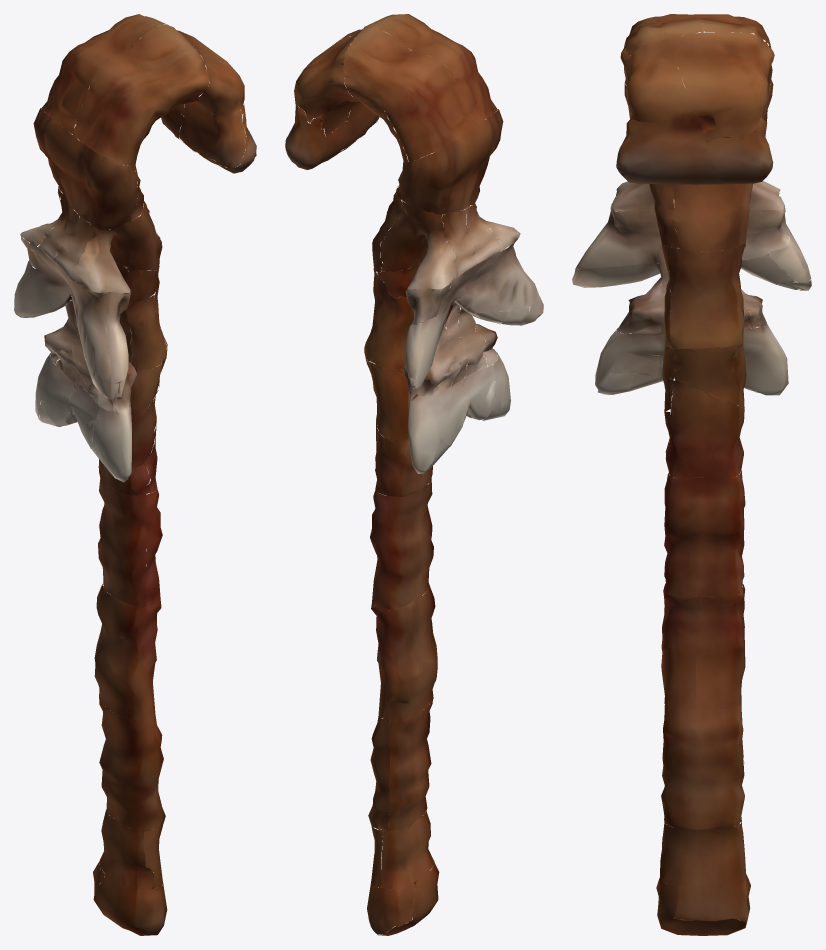
The model's file is staff0.glb.
The picture shows the model from 3 angles, left to right: view 1: azimuth 30°, elevation 25°; view 2: azimuth 150°, elevation 25°; view 3: azimuth 270°, elevation 25°; orthographic projection. The views are drawn at different scales.
Visible parts, largest first — view 1: staff0; view 2: staff0; view 3: staff0.
Boxes of the visible parts, left/top/right/bottom form: staff0: left=14, top=14, right=256, bottom=935; staff0: left=285, top=14, right=543, bottom=935; staff0: left=572, top=14, right=811, bottom=935.
Bounding box in the file's own units: 0.2025 × 1 × 0.2346.
1 material, 1 textured.
